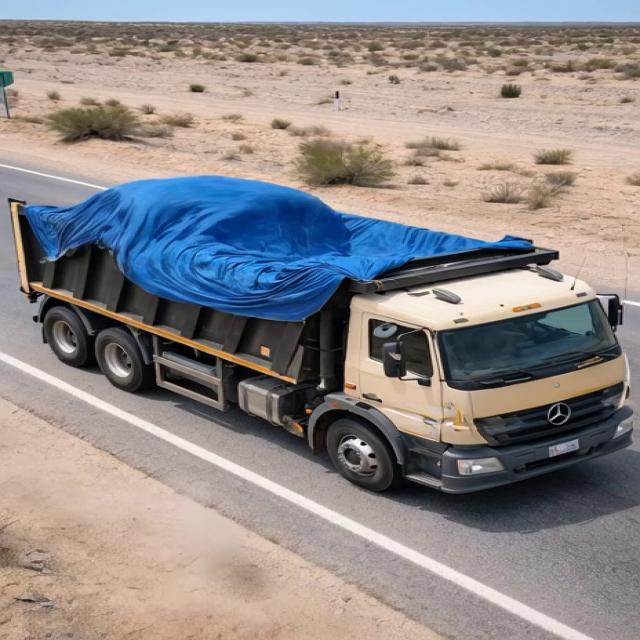Box: (5, 192, 576, 279)
Truck: (0, 162, 634, 504)
